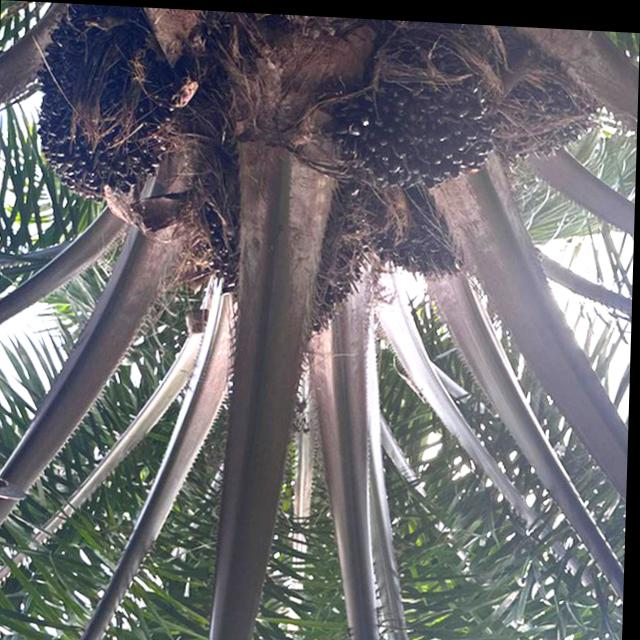unripe: (189, 151, 384, 341)
